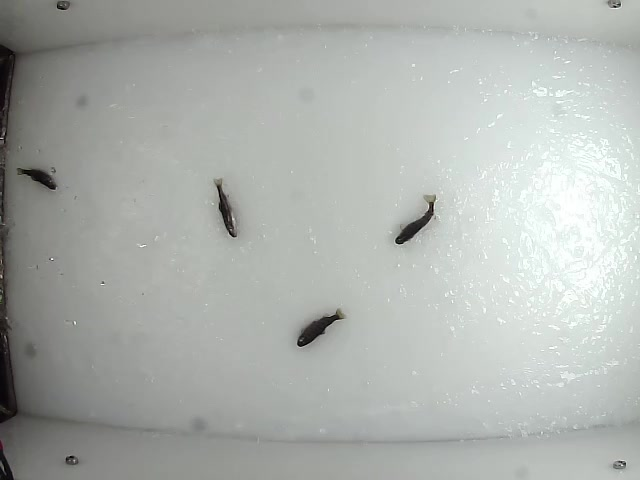fish: (393, 193, 439, 246), (294, 307, 347, 346), (213, 176, 239, 238), (14, 166, 59, 190)
